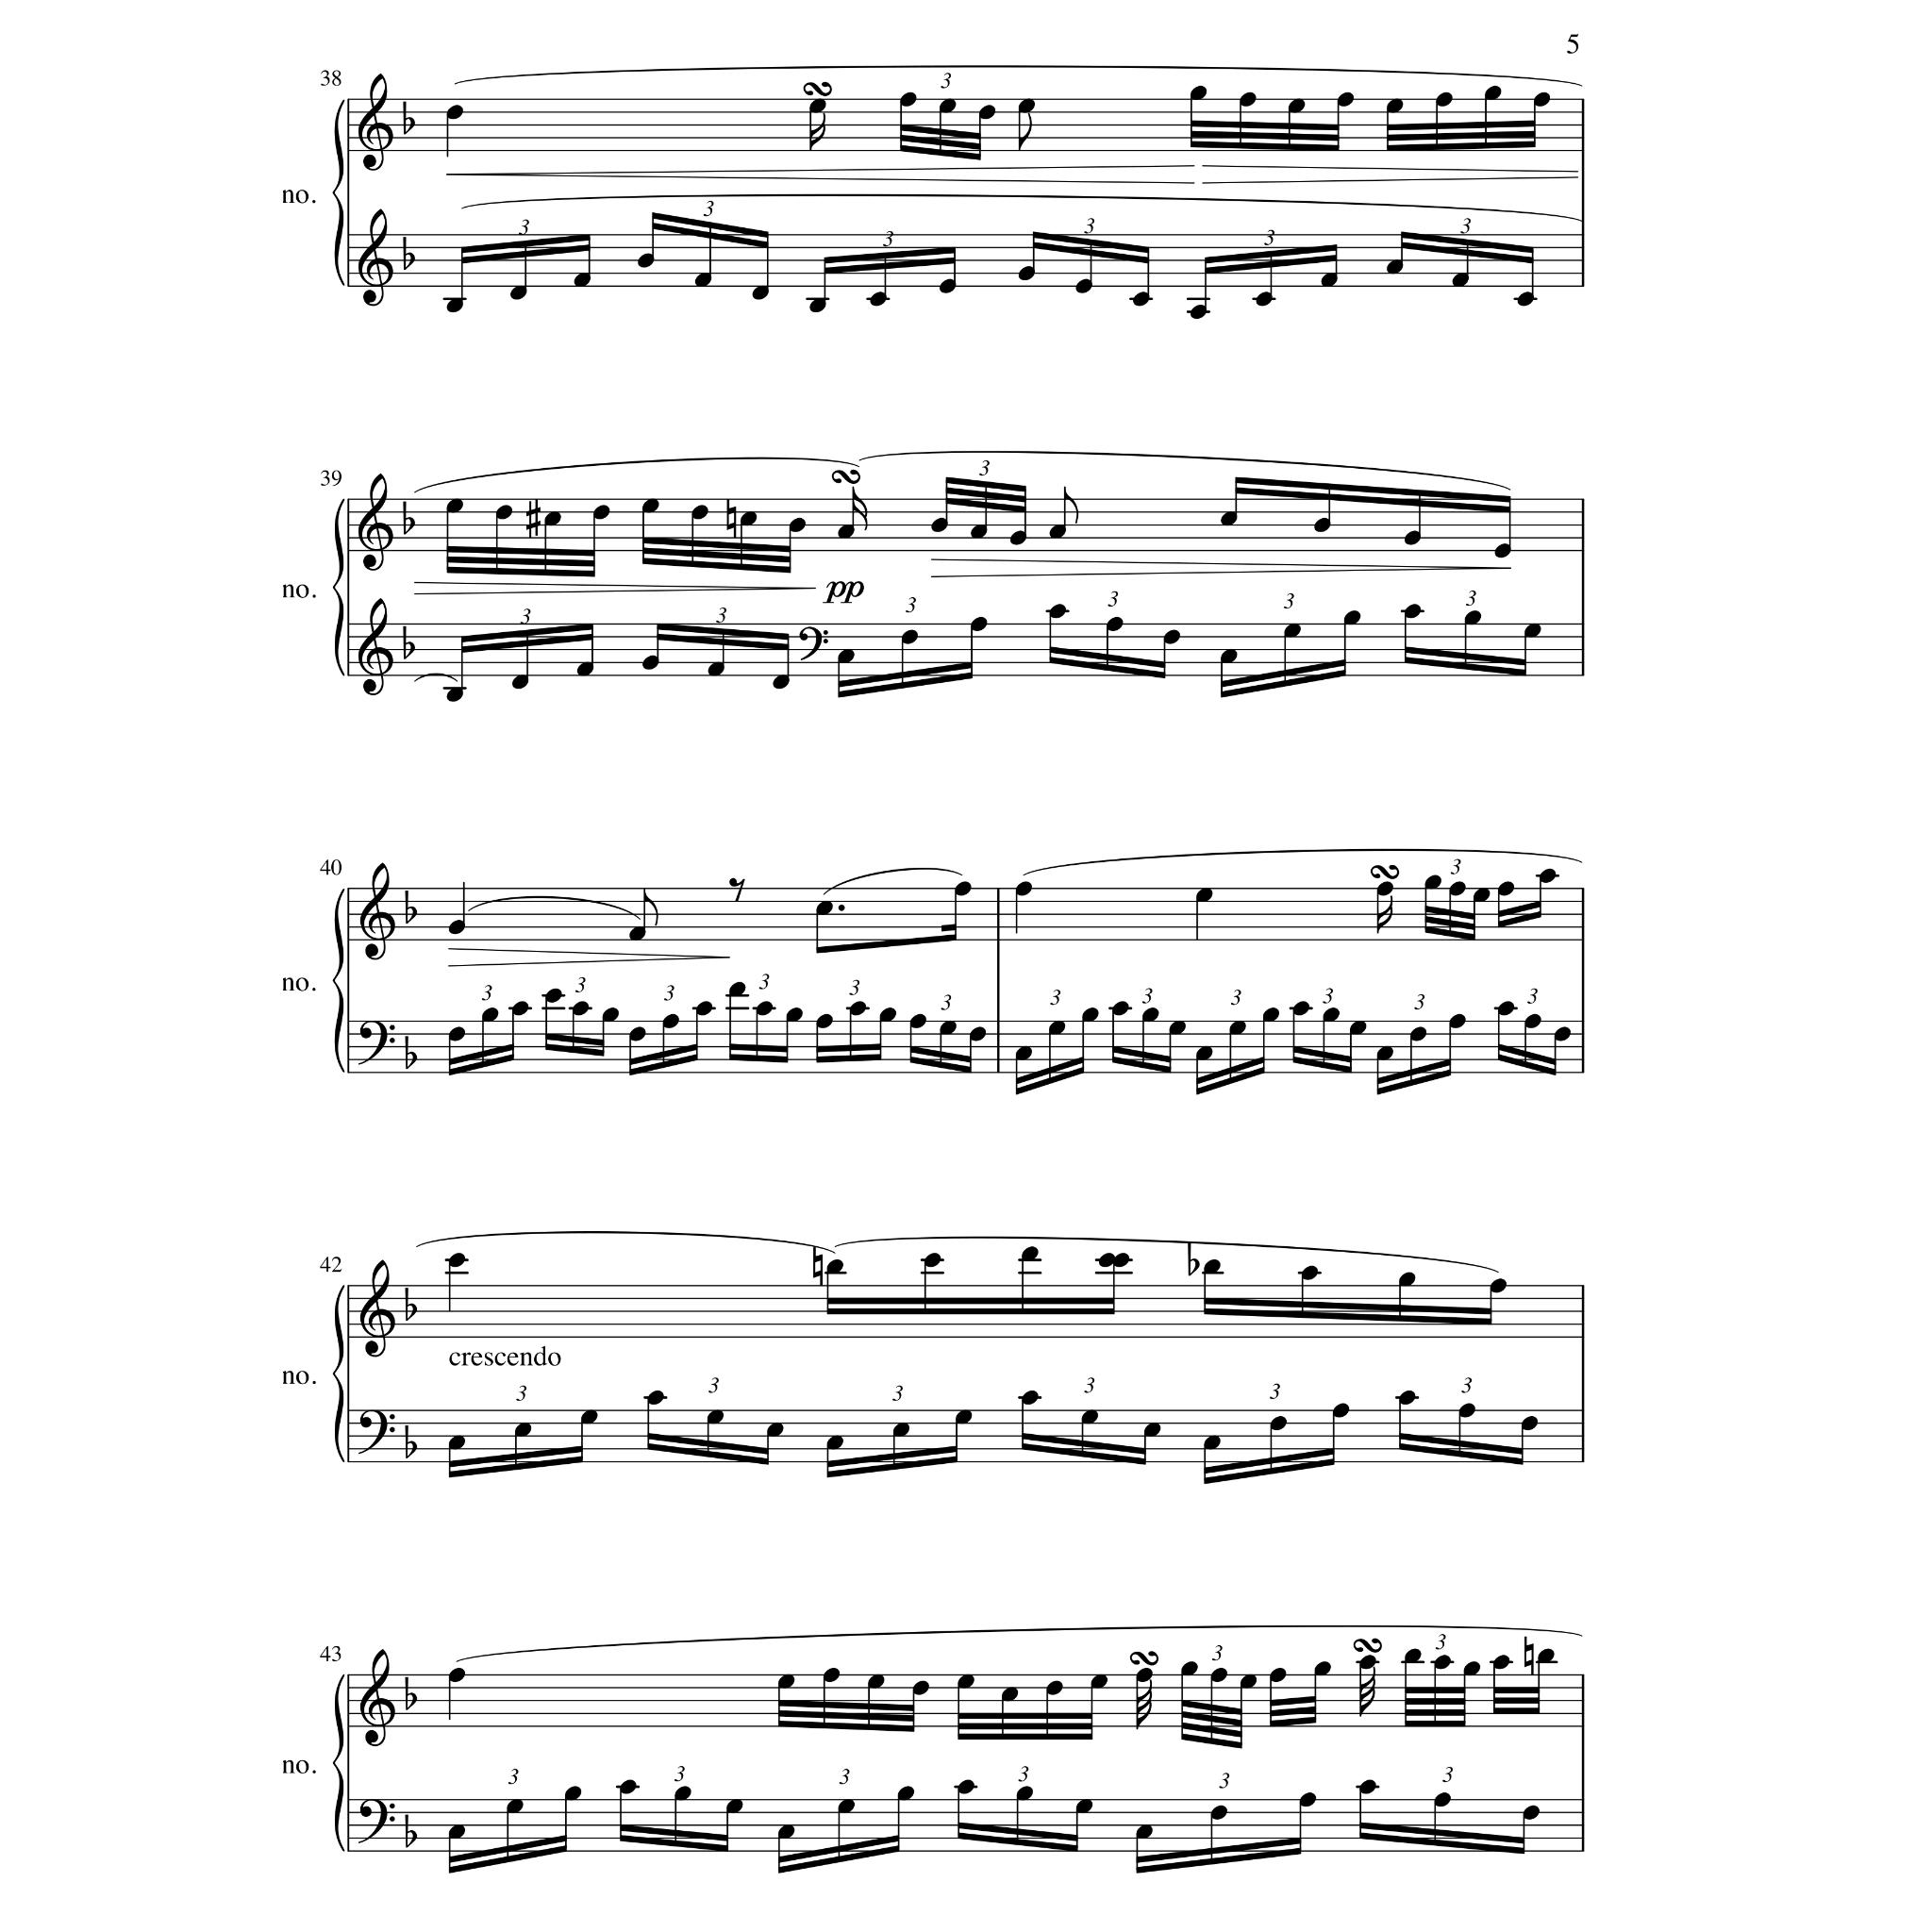brace: (332, 100, 345, 287), (332, 889, 345, 1074), (332, 498, 345, 677), (332, 1285, 345, 1464), (332, 1674, 345, 1853)
fClef: (358, 1021, 395, 1066), (358, 1409, 395, 1455), (358, 1799, 395, 1844)
flag16thDown: (809, 113, 824, 151), (1377, 896, 1392, 934)
flag16thUp: (852, 487, 867, 532)
flag8thDown: (1019, 113, 1032, 151)
flag8thUp: (1063, 487, 1078, 525), (643, 889, 658, 926)
gClef: (358, 74, 393, 172), (358, 209, 393, 308), (358, 474, 393, 572), (358, 598, 393, 696), (359, 862, 395, 960), (359, 1259, 395, 1357), (359, 1649, 395, 1747)
noteheadBlack: (1189, 304, 1207, 321), (1451, 272, 1470, 289), (1283, 623, 1302, 640), (728, 981, 747, 998), (1313, 1660, 1332, 1677), (1404, 1647, 1423, 1664), (1462, 1660, 1481, 1677), (1321, 272, 1338, 289), (694, 272, 711, 289), (574, 272, 591, 289), (1524, 623, 1541, 640), (1181, 1660, 1198, 1677), (1538, 1647, 1555, 1664), (1287, 99, 1306, 114), (1336, 92, 1355, 108), (1189, 86, 1207, 101), (1255, 292, 1274, 308), (1483, 86, 1502, 101), (1434, 92, 1453, 108), (1532, 92, 1551, 108), (751, 285, 770, 300), (445, 106, 464, 121), (445, 298, 464, 313), (977, 106, 996, 121), (1017, 99, 1036, 114), (1017, 266, 1036, 281), (938, 279, 957, 294), (938, 99, 957, 114), (1219, 649, 1238, 664), (1219, 511, 1238, 526), (1162, 630, 1181, 645), (1313, 518, 1332, 533), (543, 511, 562, 526), (575, 662, 594, 677), (445, 688, 464, 703), (445, 499, 464, 514), (900, 630, 919, 645), (691, 505, 709, 520), (740, 511, 758, 526), (1375, 881, 1394, 896), (1375, 1046, 1394, 1061), (1081, 1008, 1100, 1023), (1228, 1021, 1247, 1036), (1168, 1021, 1187, 1036), (1496, 1001, 1515, 1016), (1496, 881, 1515, 896), (1472, 888, 1491, 903), (1553, 1026, 1572, 1041), (1538, 869, 1557, 884), (628, 1026, 647, 1041), (628, 926, 647, 941), (755, 1001, 774, 1016), (481, 1008, 500, 1023), (447, 1026, 466, 1041), (447, 920, 466, 935), (953, 881, 972, 896), (968, 1026, 987, 1041), (815, 1014, 834, 1029), (815, 901, 834, 916), (785, 1008, 804, 1023), (1300, 1266, 1319, 1281), (1111, 1253, 1130, 1268), (1489, 1278, 1507, 1293), (513, 1423, 532, 1438), (579, 1409, 598, 1424), (706, 1409, 724, 1424), (447, 1253, 466, 1268), (447, 1435, 466, 1450), (923, 1253, 941, 1268), (766, 1423, 785, 1438), (1298, 1792, 1317, 1807), (1209, 1806, 1228, 1821), (1209, 1668, 1228, 1683), (674, 1786, 692, 1801), (506, 1799, 525, 1814), (447, 1824, 466, 1840), (447, 1668, 466, 1683), (1045, 1681, 1064, 1696), (1015, 1786, 1034, 1801), (896, 1786, 915, 1801), (911, 1681, 930, 1696), (1387, 260, 1404, 275), (1387, 99, 1404, 114), (1132, 292, 1149, 308), (1075, 279, 1092, 294), (1240, 92, 1257, 108), (1517, 292, 1534, 308), (638, 253, 655, 268), (809, 99, 826, 114), (809, 298, 826, 313), (509, 285, 526, 300), (870, 292, 887, 308), (900, 92, 917, 108), (1106, 617, 1123, 632), (970, 617, 987, 632), (970, 525, 987, 540), (930, 518, 947, 533), (1049, 604, 1066, 619), (1049, 525, 1066, 540), (1009, 531, 1026, 546), (1464, 610, 1481, 625), (1404, 604, 1421, 619), (1404, 531, 1421, 546), (1343, 610, 1360, 625), (1494, 543, 1511, 558), (511, 675, 528, 690), (495, 505, 512, 520), (592, 505, 609, 520), (641, 656, 658, 671), (641, 499, 658, 514), (838, 525, 855, 540), (789, 518, 806, 533), (772, 675, 789, 690), (838, 649, 855, 664), (708, 662, 724, 677), (1349, 1021, 1366, 1036), (1323, 1008, 1340, 1023), (1292, 1001, 1309, 1016), (1048, 1021, 1065, 1036), (1449, 881, 1466, 896), (1424, 874, 1441, 890), (1449, 1014, 1466, 1029), (1409, 1026, 1426, 1041), (1141, 1008, 1158, 1023), (1111, 1001, 1128, 1016), (1262, 1008, 1279, 1023), (1196, 1046, 1213, 1061), (1196, 888, 1213, 903), (1524, 1014, 1541, 1029), (602, 1008, 619, 1023), (572, 1001, 589, 1016), (695, 1001, 712, 1016), (662, 1014, 679, 1029), (545, 989, 562, 1004), (511, 1001, 528, 1016), (1015, 1046, 1032, 1061), (909, 1014, 926, 1029), (879, 1008, 896, 1023), (940, 1021, 957, 1036), (1015, 881, 1032, 896), (849, 1001, 866, 1016), (1270, 1416, 1287, 1431), (1332, 1403, 1349, 1418), (1398, 1272, 1415, 1287), (1398, 1391, 1415, 1406), (1081, 1409, 1098, 1424), (1098, 1253, 1115, 1268), (1143, 1423, 1160, 1438), (1204, 1259, 1221, 1274), (1204, 1435, 1221, 1450), (1458, 1403, 1475, 1418), (1521, 1416, 1538, 1431), (647, 1391, 664, 1406), (892, 1423, 909, 1438), (955, 1409, 972, 1424), (1021, 1246, 1038, 1261), (1021, 1391, 1038, 1406), (826, 1259, 843, 1274), (826, 1435, 843, 1450), (1270, 1668, 1287, 1683), (1091, 1674, 1108, 1689), (1358, 1779, 1375, 1794), (1358, 1655, 1375, 1670), (1136, 1824, 1153, 1840), (1136, 1668, 1153, 1683), (1240, 1674, 1257, 1689), (1492, 1655, 1509, 1670), (1434, 1792, 1451, 1807), (1434, 1655, 1451, 1670), (1523, 1806, 1540, 1821), (726, 1799, 743, 1814), (619, 1779, 636, 1794), (564, 1786, 581, 1801), (823, 1668, 840, 1683), (777, 1824, 794, 1840), (777, 1674, 794, 1689), (1001, 1687, 1018, 1702), (957, 1779, 974, 1794), (957, 1674, 974, 1689), (1075, 1799, 1092, 1814), (868, 1674, 885, 1689), (838, 1799, 855, 1814)
rest8th: (728, 878, 745, 903)
